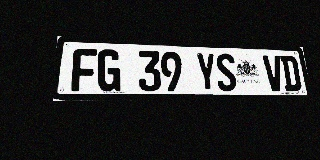3: (138, 51, 161, 91)
9: (160, 51, 183, 91)
D: (280, 56, 302, 91)
F: (71, 48, 97, 91)
G: (97, 49, 121, 91)
S: (215, 53, 238, 91)
V: (262, 55, 285, 91)
Y: (195, 53, 218, 91)
